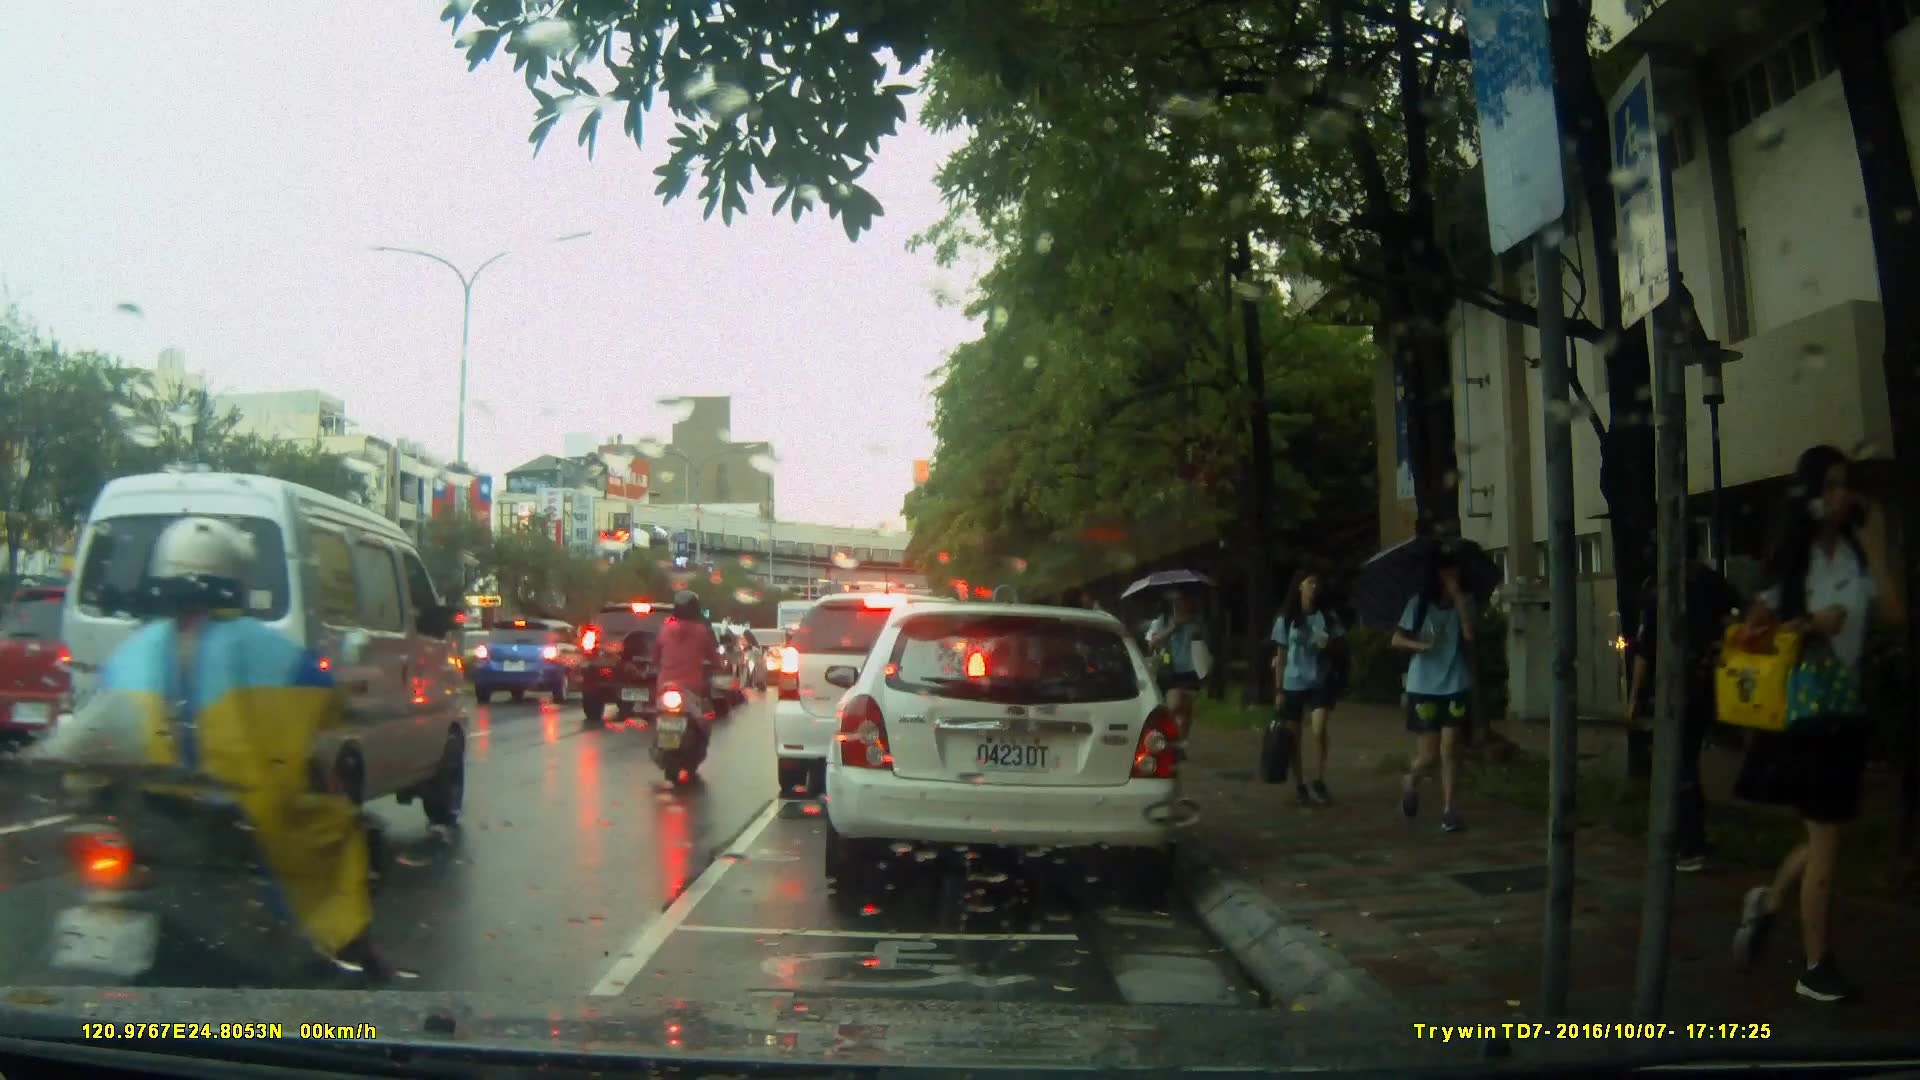pedestrian: (1729, 430, 1895, 1009), (1640, 511, 1751, 887), (1368, 543, 1489, 838), (1258, 565, 1346, 811), (1154, 584, 1218, 761)
rider: (56, 514, 383, 1043), (649, 592, 726, 776)
vehicle: (47, 472, 467, 880), (815, 593, 1204, 909), (771, 590, 994, 802), (574, 603, 737, 726), (476, 618, 599, 708)
